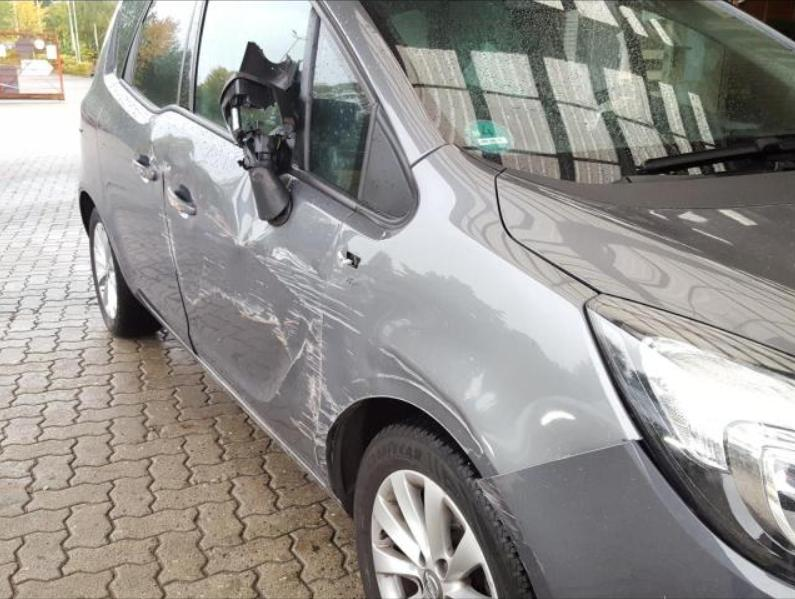Back-door: (98, 0, 204, 346)
Back-wheel: (90, 208, 161, 340)
Back-window: (124, 1, 201, 110), (115, 0, 151, 81)
Fender: (317, 147, 641, 486)
Front-bumper: (484, 442, 794, 598)
Front-door: (161, 1, 376, 472)
Front-wheel: (354, 419, 533, 598)
Front-window: (196, 0, 312, 127), (309, 20, 371, 196)
Headlight: (585, 296, 794, 585)
Hood: (495, 169, 793, 358)
Mirror: (219, 41, 296, 224)
Quarter-panel: (79, 71, 139, 294)
Rocker-panel: (132, 291, 331, 492)
Windshield: (364, 3, 794, 183)
